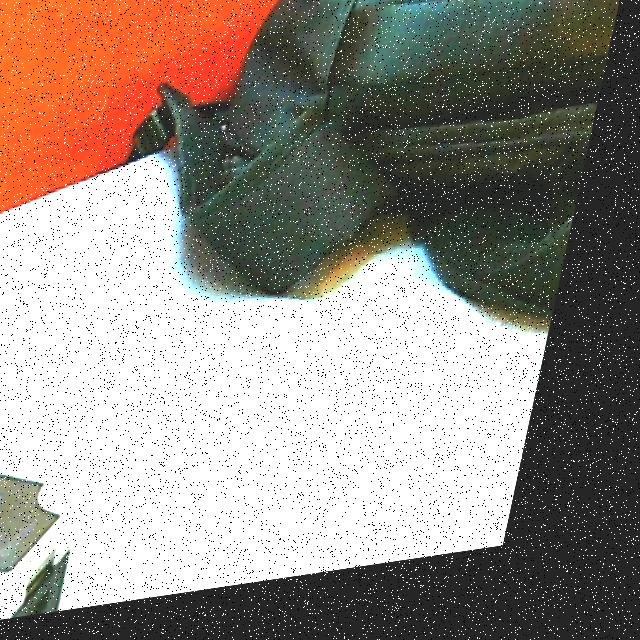adapter: (0, 444, 118, 640)
